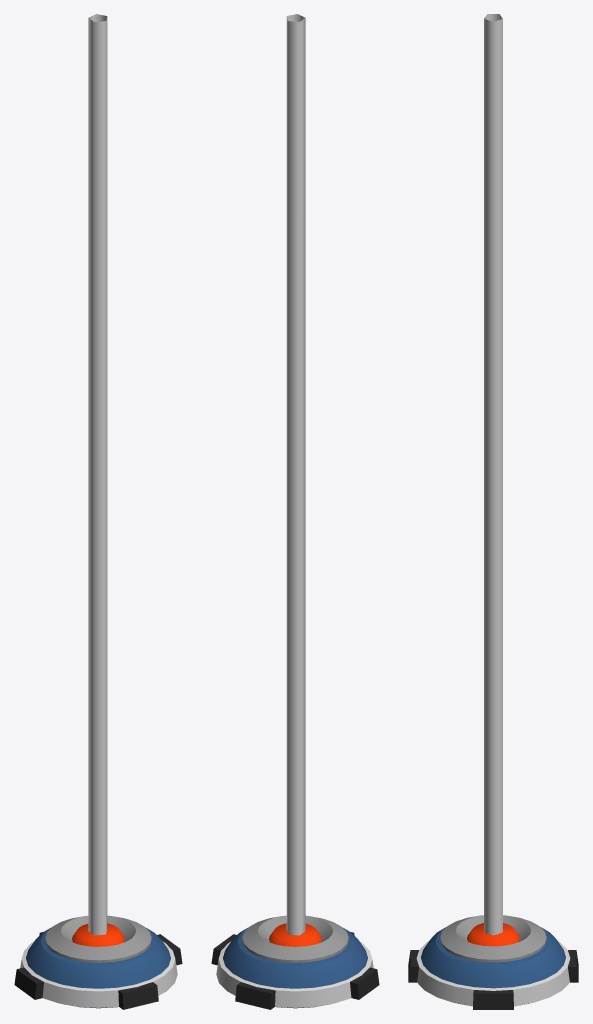
Rendered from TripwireMine.FBX.
The picture shows the model from 3 angles, left to right: view 1: azimuth 30°, elevation 25°; view 2: azimuth 150°, elevation 25°; view 3: azimuth 270°, elevation 25°; orthographic projection.
Parts seen in each view (by area): view 1: Wire, TripwireMine; view 2: Wire, TripwireMine; view 3: Wire, TripwireMine.
Part boxes in pixels (x1=…): Wire: x1=88, y1=14, x2=107, y2=935; TripwireMine: x1=14, y1=915, x2=182, y2=1009; Wire: x1=286, y1=14, x2=305, y2=935; TripwireMine: x1=211, y1=915, x2=379, y2=1009; Wire: x1=484, y1=14, x2=502, y2=935; TripwireMine: x1=408, y1=915, x2=578, y2=1009.
Bounding box in the file's own units: 168 × 1045 × 168.
